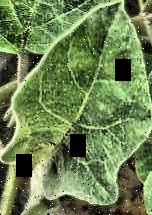HEALTHY: (0, 1, 152, 215)
